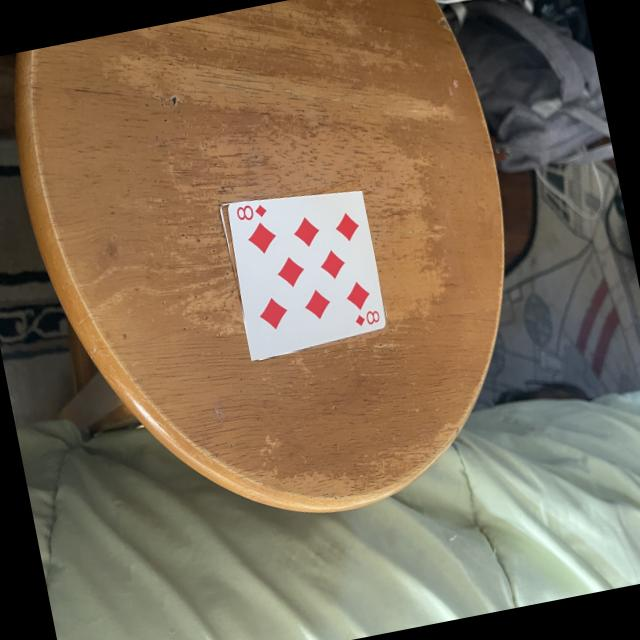8 of diamonds: (226, 193, 383, 360)
